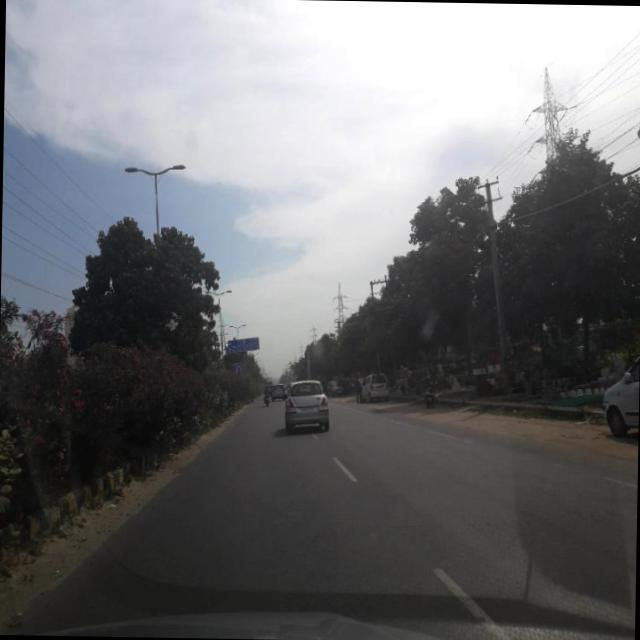crack: (81, 470, 629, 623)
